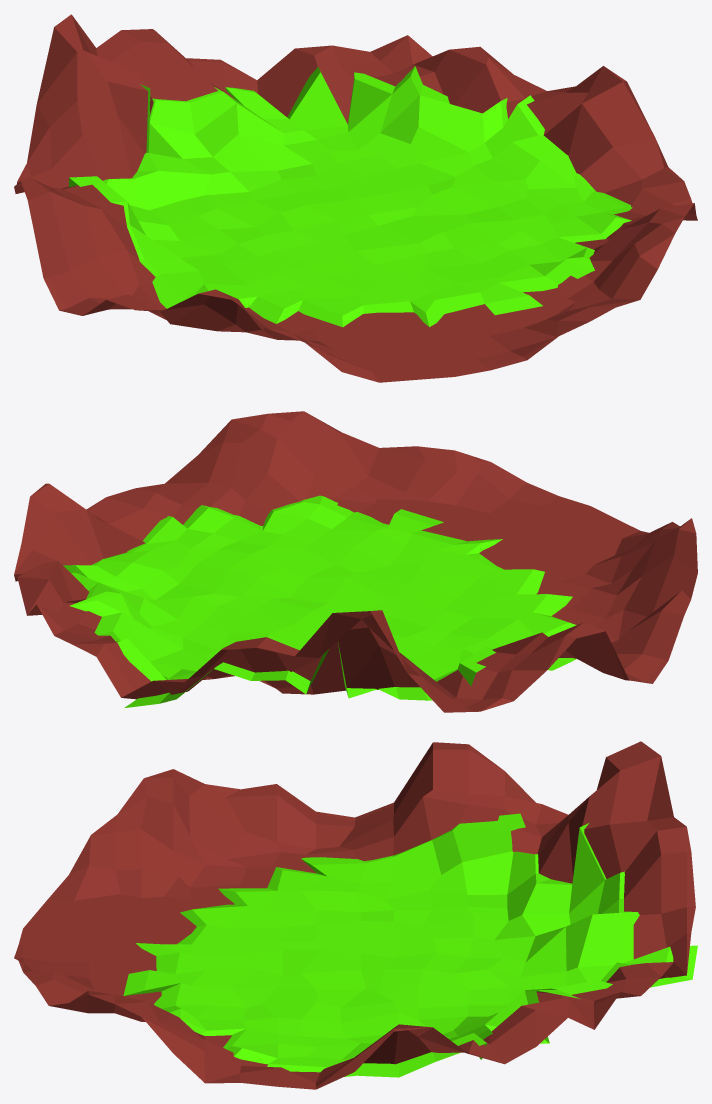
File: Mars-One_map_terraforming_04.FBX
3 renders of one model, top to bottom at view 1: azimuth 30°, elevation 25°; view 2: azimuth 150°, elevation 25°; view 3: azimuth 270°, elevation 25°, orthographic.
Visible parts, largest first — view 1: Circle001; view 2: Circle001; view 3: Circle001.
Part boxes in pixels (box(x1,y1,x2,y2)): Circle001: box(14, 14, 697, 382); Circle001: box(14, 411, 697, 712); Circle001: box(14, 741, 697, 1089).
Bounding box in the file's own units: 413 × 97.67 × 416.
